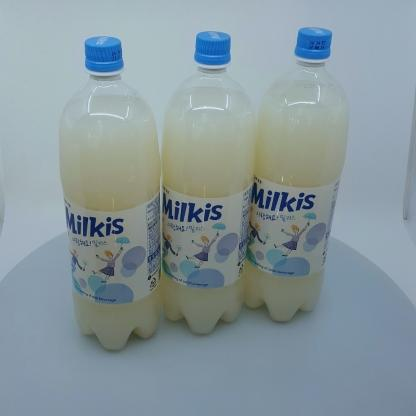-----1-5L: (59, 36, 161, 350), (242, 27, 349, 321), (160, 31, 256, 334)
